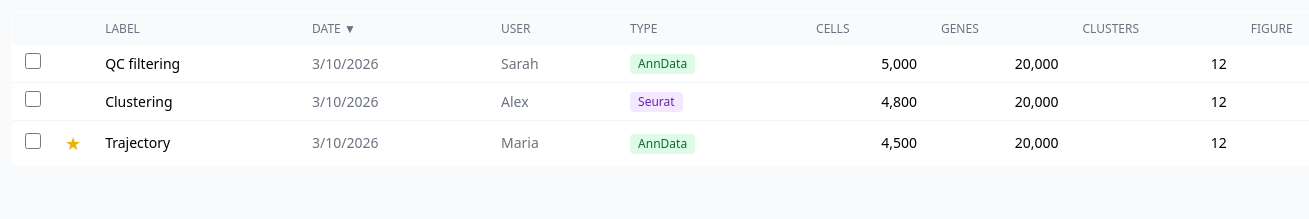
it: SnapshotComparisonTable › Clear button deselects all snapshots
The width and height of the screenshot is (1309, 219).
Click the checkbox next to "QC filtering" at (33, 61), box [25,53,41,69]
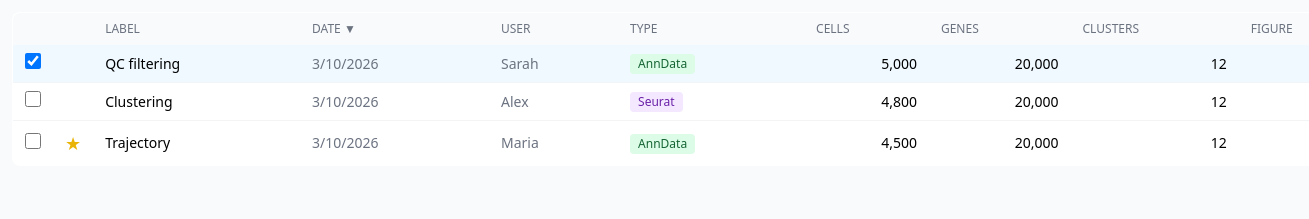
Click the checkbox next to "Clustering" at (33, 99), box [25,91,41,107]
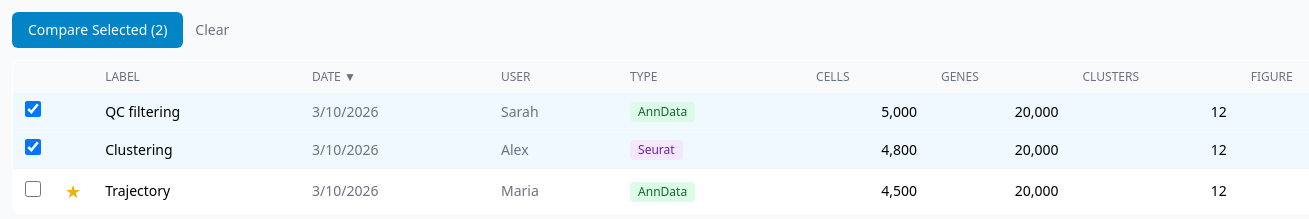
expect the button "Compare Selected (2)" is shown: met, box [12,12,183,48]
Click the button "Clear" at (212, 30), box [195,20,229,40]
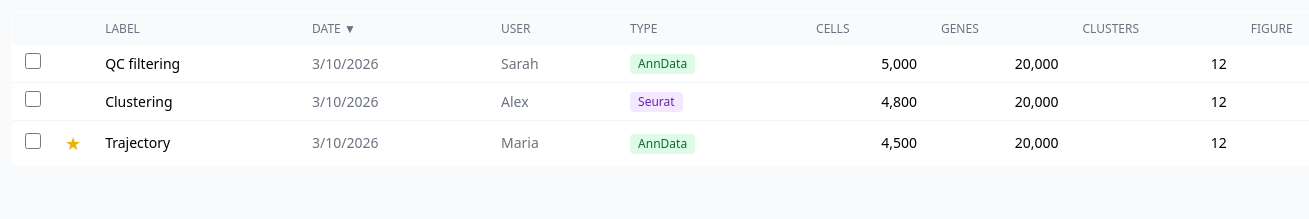
expect the button "Compare Selected" is gone: met
